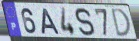4: (60, 6, 76, 37)
6: (21, 7, 38, 36)
7: (94, 8, 109, 38)
A: (40, 8, 61, 35)
D: (110, 7, 132, 38)
S: (74, 7, 96, 38)
